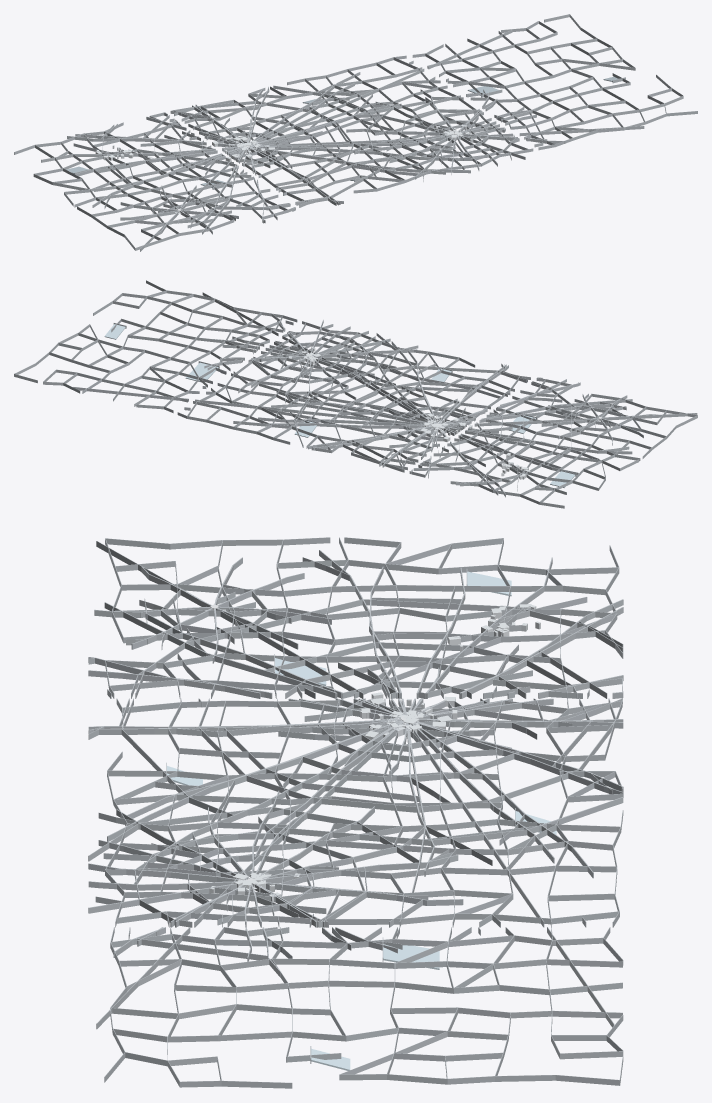
The model's file is DAMAGE_GLASS_FRACTURE_STAGES_ADAY_YON_DUZELTME.glb.
The picture shows the model from 3 angles, top to bottom: view 1: azimuth 30°, elevation 25°; view 2: azimuth 150°, elevation 25°; view 3: azimuth 270°, elevation 25°; orthographic projection. The views are drawn at different scales.
Visible parts, largest first — view 1: GLASS_STAGE3_CRAZED__crack_vein, GLASS_STAGE2_SPIDERWEB__crack_vein, GLASS_STAGE1_HAIRLINE__crack_vein, GLASS_STAGE3_CRAZED__frost_patch; view 2: GLASS_STAGE3_CRAZED__crack_vein, GLASS_STAGE2_SPIDERWEB__crack_vein, GLASS_STAGE3_CRAZED__glass_shard, GLASS_STAGE1_HAIRLINE__crack_vein, GLASS_STAGE3_CRAZED__frost_patch; view 3: GLASS_STAGE3_CRAZED__crack_vein, GLASS_STAGE2_SPIDERWEB__crack_vein, GLASS_STAGE1_HAIRLINE__crack_vein, GLASS_STAGE3_CRAZED__frost_patch, GLASS_STAGE3_CRAZED__glass_shard.
Boxes of the visible parts, x1,y1,x2,y2 form: GLASS_STAGE3_CRAZED__crack_vein: [14, 14, 697, 250]; GLASS_STAGE2_SPIDERWEB__crack_vein: [41, 29, 644, 251]; GLASS_STAGE1_HAIRLINE__crack_vein: [185, 118, 310, 174]; GLASS_STAGE3_CRAZED__frost_patch: [95, 124, 473, 213]; GLASS_STAGE3_CRAZED__crack_vein: [14, 280, 697, 508]; GLASS_STAGE2_SPIDERWEB__crack_vein: [73, 292, 697, 495]; GLASS_STAGE3_CRAZED__glass_shard: [104, 324, 575, 487]; GLASS_STAGE1_HAIRLINE__crack_vein: [381, 400, 498, 452]; GLASS_STAGE3_CRAZED__frost_patch: [289, 347, 605, 479]; GLASS_STAGE3_CRAZED__crack_vein: [88, 537, 623, 1088]; GLASS_STAGE2_SPIDERWEB__crack_vein: [88, 541, 623, 1029]; GLASS_STAGE1_HAIRLINE__crack_vein: [283, 667, 537, 774]; GLASS_STAGE3_CRAZED__frost_patch: [205, 604, 540, 902]; GLASS_STAGE3_CRAZED__glass_shard: [167, 571, 556, 1070].
Size of the model in its own units: 53.71 by 0.7439 by 22.26.
